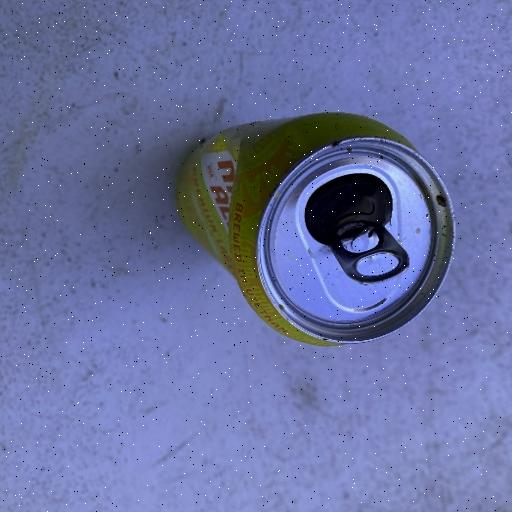Metal: (173, 108, 457, 348)
